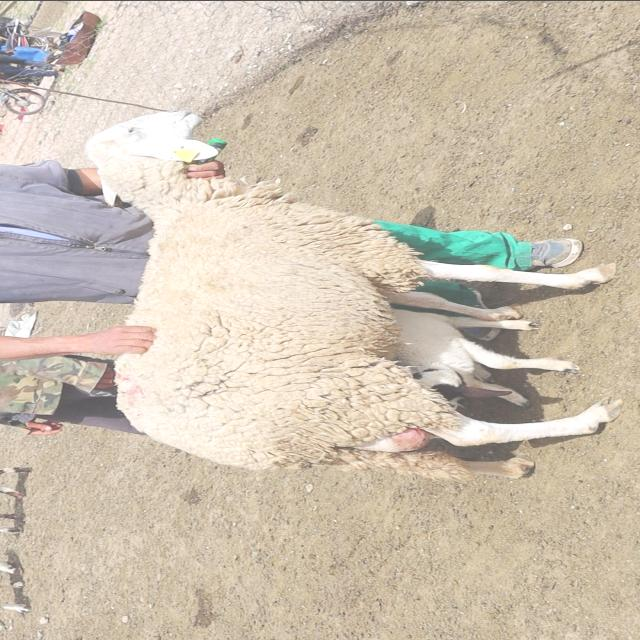Score_2: (87, 109, 621, 479)
